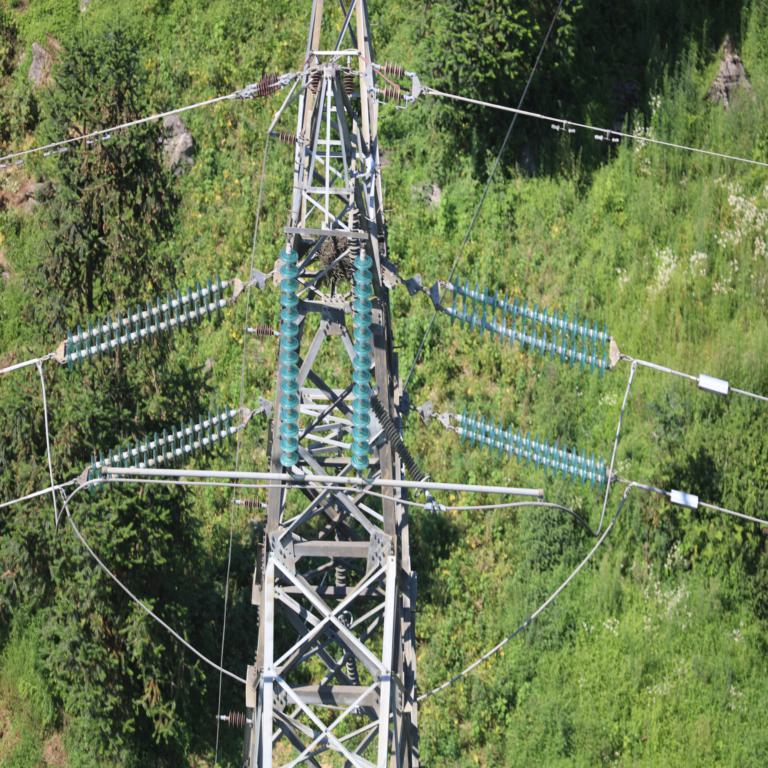nest: (321, 237, 354, 270)
